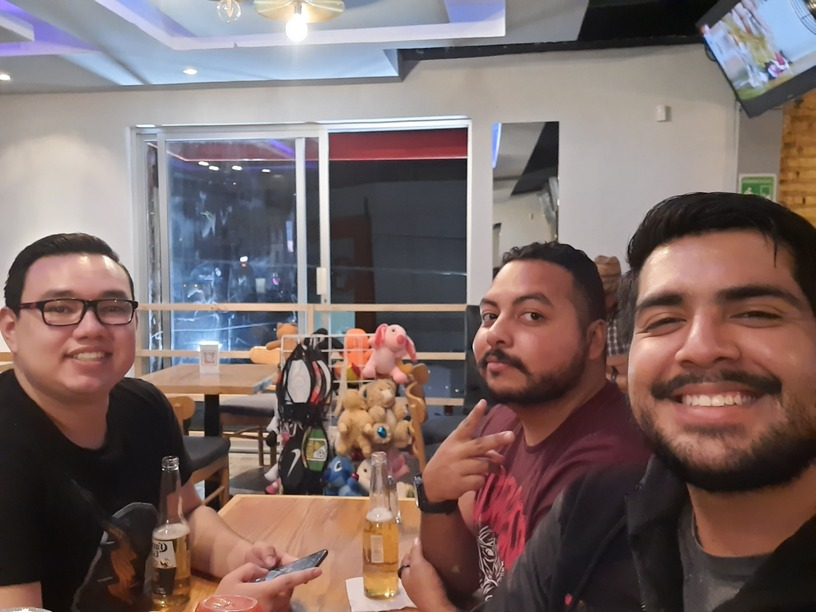Yoshi: (428, 218, 597, 428)
